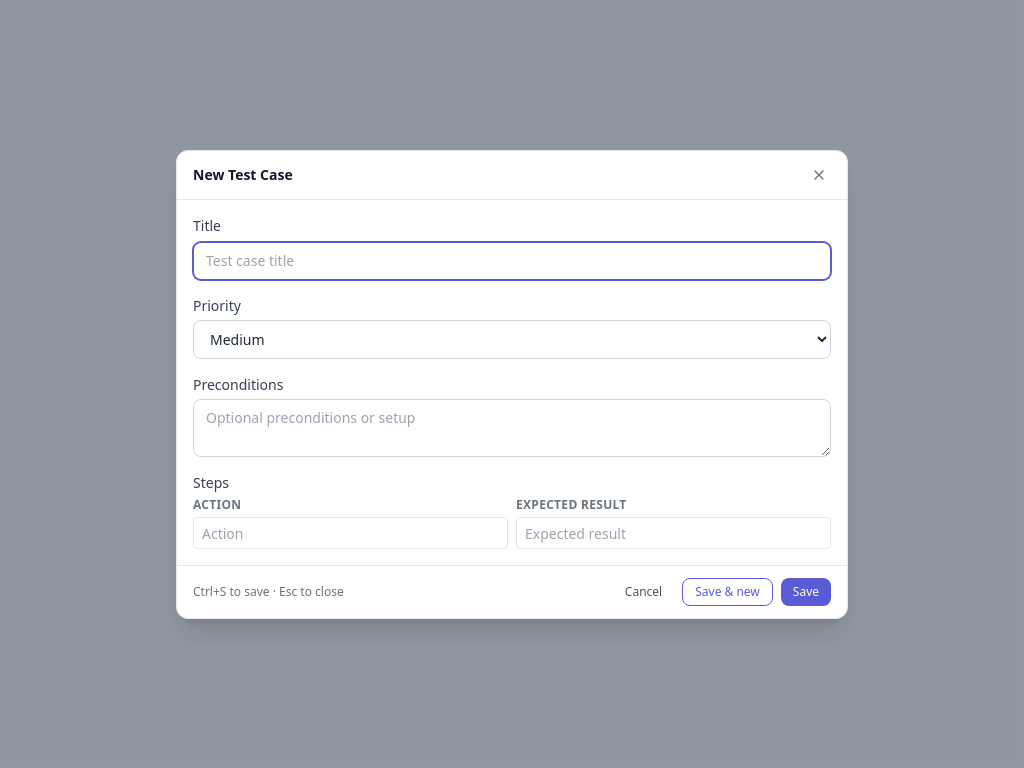
Scenario: CasePanel — save feedback › network error keeps the modal open and shows an error toast
Type "My case" into the field labelled "Title" at (512, 260), box [193,242,831,280]
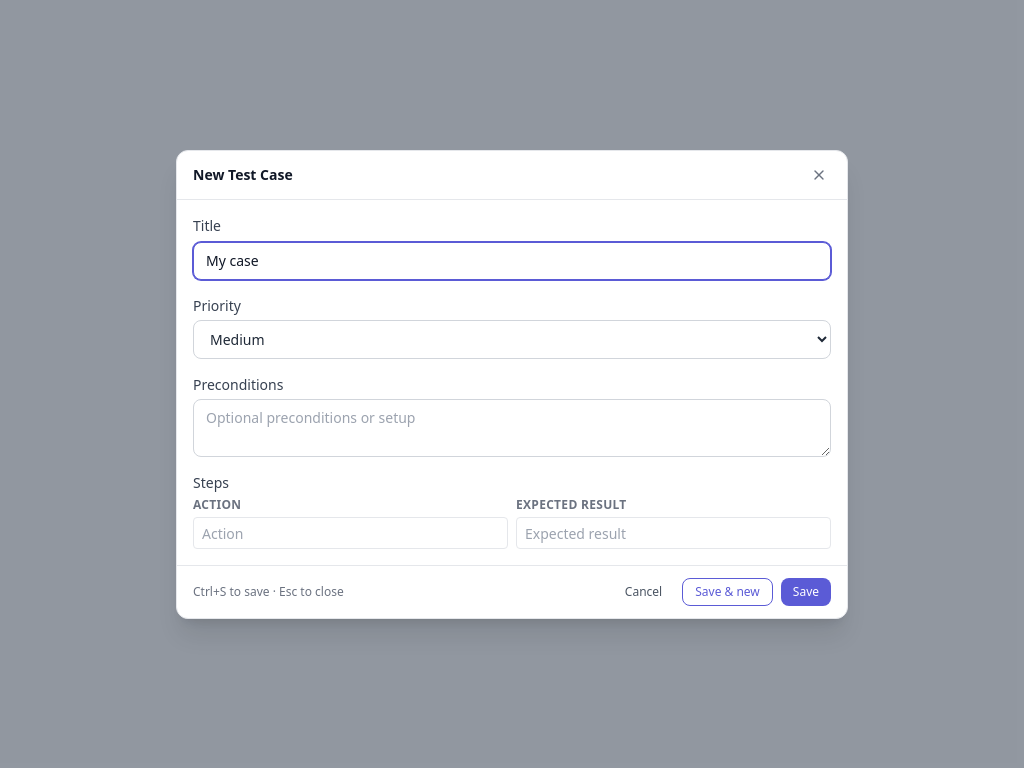
Click the button "Save" at (806, 592), box [781,578,831,606]
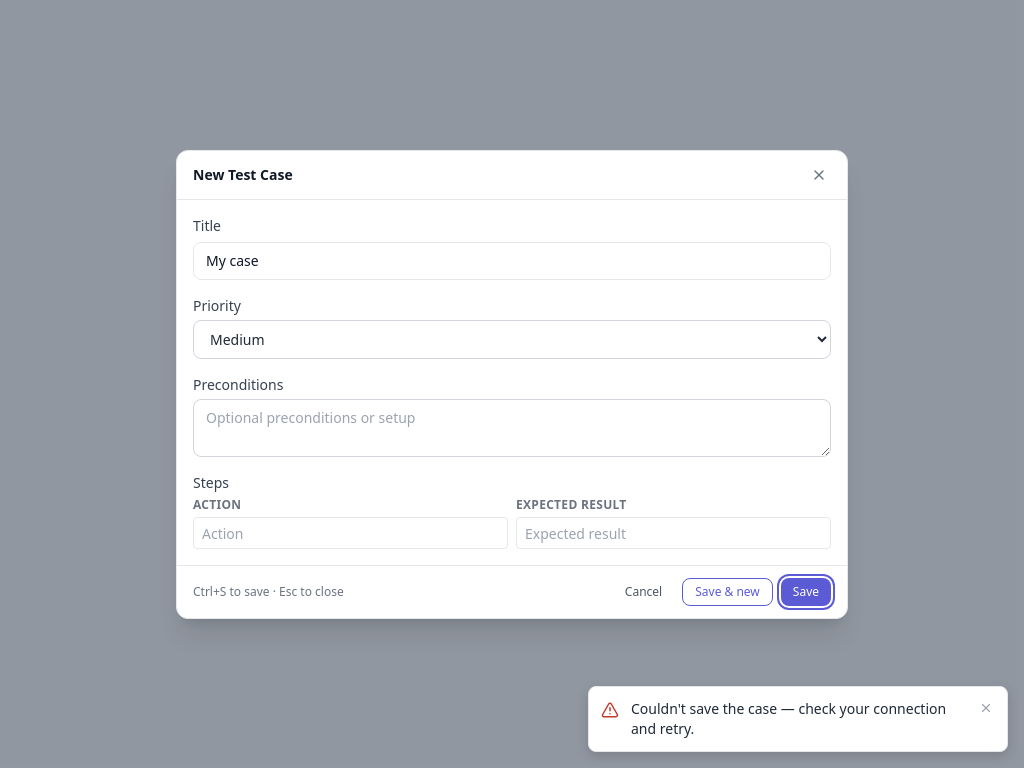
Result: the text "Couldn't save the case — check your connection and retry." is shown at [631,699,965,739]
